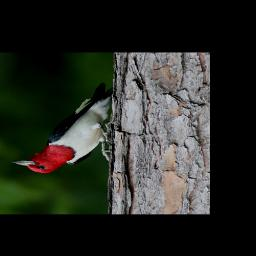Woodpecker: (8, 83, 119, 173)
